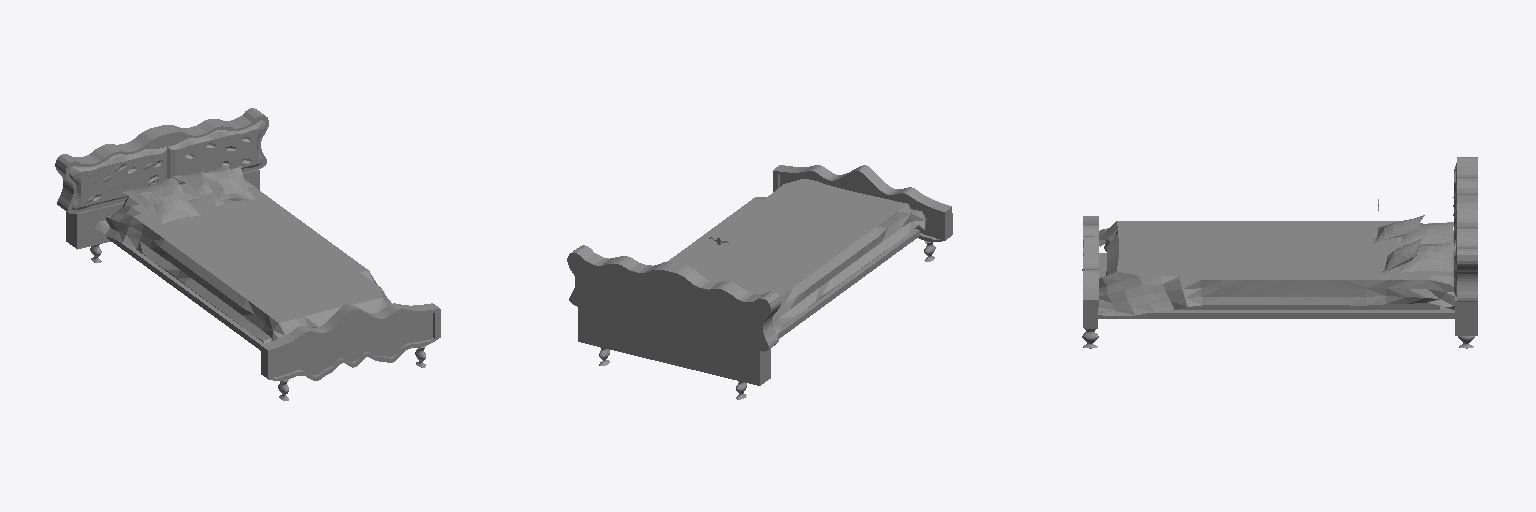
The model's file is bed.obj.
The picture shows the model from 3 angles: view 1: azimuth 30°, elevation 25°; view 2: azimuth 150°, elevation 25°; view 3: azimuth 270°, elevation 25°; orthographic projection.
Parts seen in each view (by area): view 1: Plane001, Surface7, Surface10, Surface021, Surface022, Box004, Box002, Surface020, Surface017, Surface015, Surface1; view 2: Plane001, Box004, Surface3, Surface023, Surface021, Surface7, Surface022, Box002, Surface10; view 3: Plane001, Box002, Surface10, Surface022, Box003, Surface1, Surface7, Surface015, Box004, Surface020.
Boxes of the visible parts, x1=… form: Plane001: x1=94, y1=179, x2=391, y2=343; Surface7: x1=55, y1=127, x2=166, y2=213; Surface10: x1=158, y1=108, x2=268, y2=184; Surface021: x1=261, y1=303, x2=354, y2=380; Surface022: x1=347, y1=303, x2=440, y2=366; Box004: x1=66, y1=169, x2=259, y2=249; Box002: x1=107, y1=236, x2=263, y2=350; Surface020: x1=141, y1=185, x2=199, y2=223; Surface017: x1=202, y1=168, x2=254, y2=205; Surface015: x1=123, y1=178, x2=200, y2=211; Surface1: x1=173, y1=166, x2=254, y2=195; Plane001: x1=667, y1=179, x2=926, y2=333; Box004: x1=578, y1=307, x2=770, y2=385; Surface3: x1=669, y1=272, x2=770, y2=351; Surface023: x1=567, y1=253, x2=668, y2=328; Surface021: x1=858, y1=165, x2=952, y2=241; Surface7: x1=669, y1=264, x2=780, y2=348; Surface022: x1=773, y1=165, x2=864, y2=192; Box002: x1=777, y1=229, x2=919, y2=338; Surface10: x1=570, y1=245, x2=678, y2=272; Plane001: x1=1098, y1=221, x2=1454, y2=315; Box002: x1=1098, y1=253, x2=1454, y2=318; Surface10: x1=1454, y1=199, x2=1477, y2=301; Surface022: x1=1083, y1=237, x2=1098, y2=328; Box003: x1=1173, y1=303, x2=1439, y2=309; Surface1: x1=1399, y1=243, x2=1453, y2=272; Surface7: x1=1453, y1=157, x2=1477, y2=216; Surface015: x1=1401, y1=222, x2=1453, y2=243; Box004: x1=1455, y1=296, x2=1477, y2=335; Surface020: x1=1372, y1=215, x2=1424, y2=243.
Bounding box in the file's own units: 1328 × 709 × 2233.